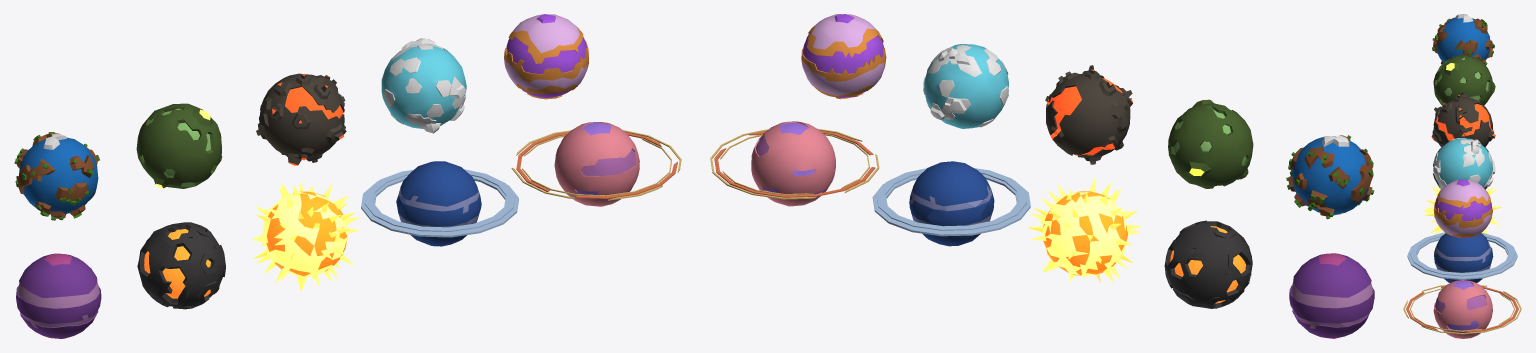
File: planet.glb
3 renders of one model, left to right at view 1: azimuth 30°, elevation 25°; view 2: azimuth 150°, elevation 25°; view 3: azimuth 270°, elevation 25°, orthographic. The views are drawn at different scales.
Visible parts, largest first — view 1: Toy_Planet_8, Toy_Planet_3, Toy_Planet_4, Toy_Planet_7, Toy_Planet_2, Toy_Planet_6, Toy_Planet_5, Toy_Planet_1, Toy_Planet_10, Toy_Planet_9, Toy_Planet_9_Rings, Toy_Planet_10_Rings; view 2: Toy_Planet_8, Toy_Planet_7, Toy_Planet_3, Toy_Planet_2, Toy_Planet_4, Toy_Planet_6, Toy_Planet_5, Toy_Planet_1, Toy_Planet_10, Toy_Planet_9, Toy_Planet_9_Rings, Toy_Planet_10_Rings; view 3: Toy_Planet_5, Toy_Planet_10, Toy_Planet_4, Toy_Planet_3, Toy_Planet_2, Toy_Planet_1, Toy_Planet_9, Toy_Planet_9_Rings, Toy_Planet_10_Rings, Toy_Planet_8.
Boxes of the visible parts, x1,y1,x2,y2 form: Toy_Planet_8: (252,182,359,290); Toy_Planet_3: (256,73,346,165); Toy_Planet_4: (381,38,466,133); Toy_Planet_7: (137,222,225,309); Toy_Planet_2: (136,103,222,188); Toy_Planet_6: (16,253,101,338); Toy_Planet_5: (504,14,589,99); Toy_Planet_1: (14,132,99,220); Toy_Planet_10: (554,122,639,206); Toy_Planet_9: (396,161,481,246); Toy_Planet_9_Rings: (361,169,518,237); Toy_Planet_10_Rings: (511,130,681,200); Toy_Planet_8: (1028,178,1141,282); Toy_Planet_7: (1164,220,1252,308); Toy_Planet_3: (1045,65,1132,164); Toy_Planet_2: (1168,99,1253,188); Toy_Planet_4: (923,44,1008,128); Toy_Planet_6: (1289,253,1374,338); Toy_Planet_5: (801,14,886,99); Toy_Planet_1: (1286,135,1374,219); Toy_Planet_10: (751,121,835,206); Toy_Planet_9: (909,161,994,246); Toy_Planet_9_Rings: (872,168,1030,236); Toy_Planet_10_Rings: (710,128,879,199); Toy_Planet_5: (1433,179,1492,238); Toy_Planet_10: (1433,280,1492,338); Toy_Planet_4: (1433,138,1495,189); Toy_Planet_3: (1431,92,1495,146); Toy_Planet_2: (1433,55,1495,105); Toy_Planet_1: (1432,14,1494,65); Toy_Planet_9: (1434,233,1493,282); Toy_Planet_9_Rings: (1407,232,1517,279); Toy_Planet_10_Rings: (1403,285,1521,334); Toy_Planet_8: (1423,186,1501,234).
Bounding box in the file's own units: 17.6 × 5.5 × 4.
2 materials, 1 textured.
